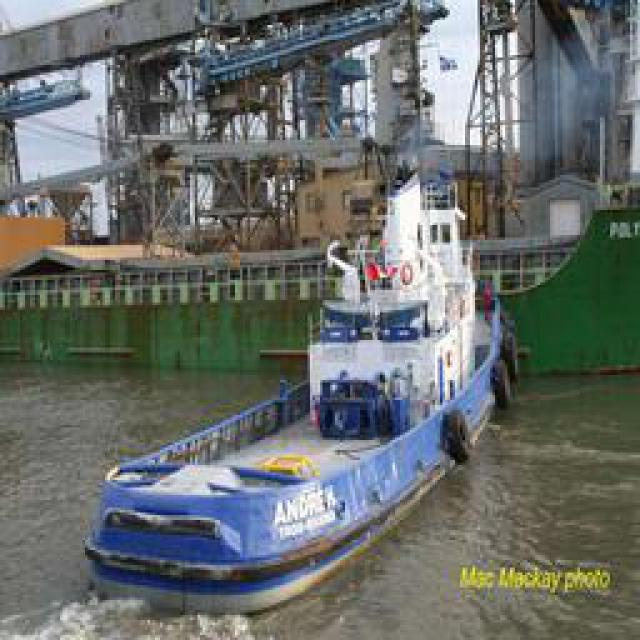Ship: (91, 94, 506, 624)
